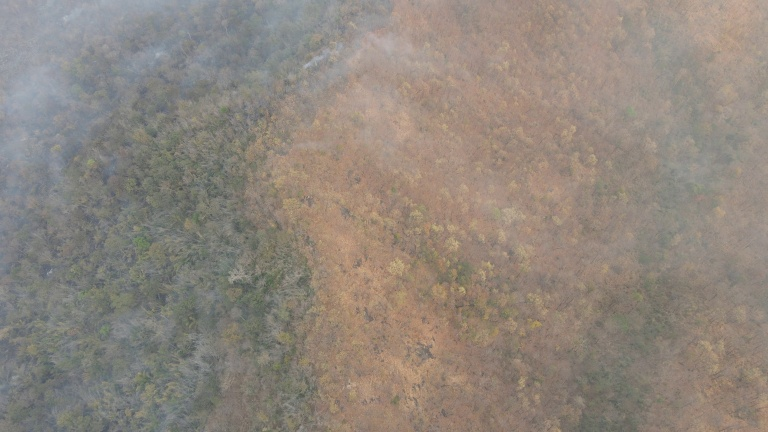smoke: (1, 1, 193, 263), (278, 21, 441, 183)
